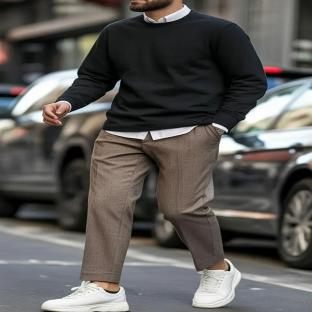Human: (42, 0, 266, 312)
